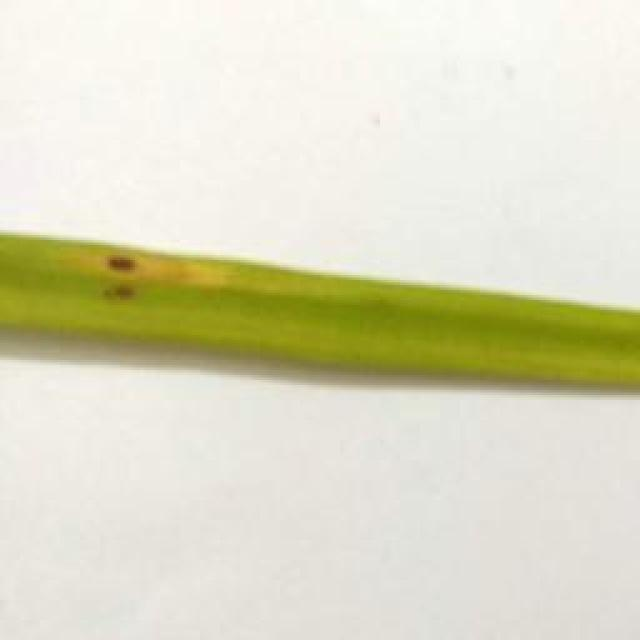Brown_Spot: (94, 282, 146, 314), (92, 247, 144, 278)
